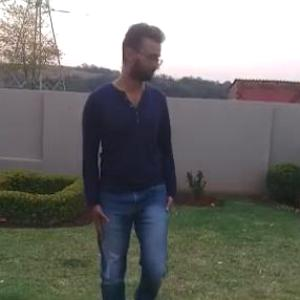follow: (76, 16, 184, 299)
